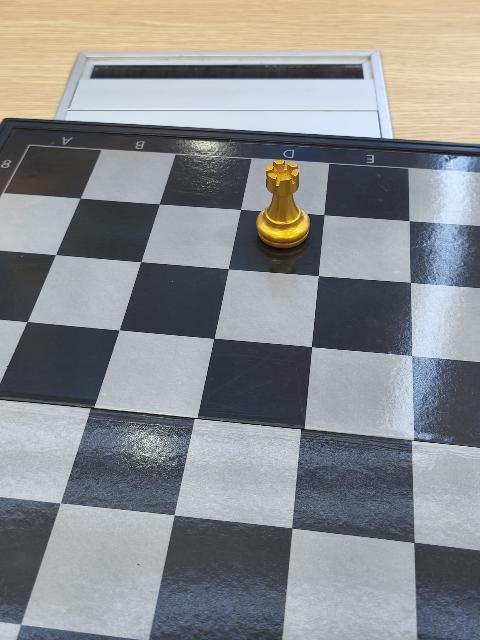black_rook: (254, 159, 312, 250)
